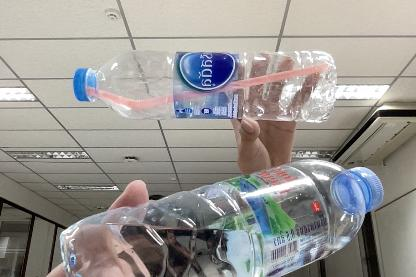Plastic Bottle: (58, 153, 386, 277), (70, 44, 348, 134)
